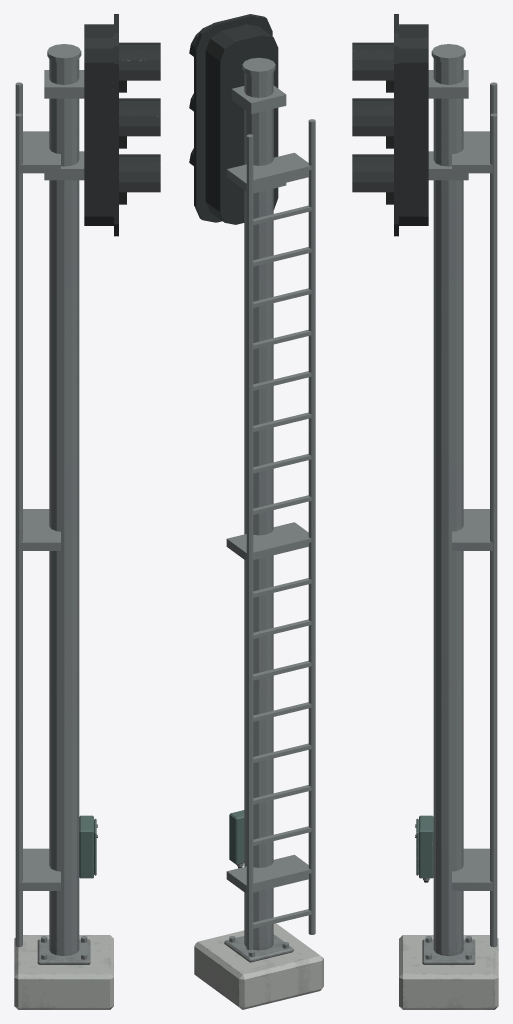
Rendered from rail_signal_one.glb.
The picture shows the model from 3 angles, left to right: view 1: azimuth 90°, elevation 25°; view 2: azimuth 210°, elevation 25°; view 3: azimuth 270°, elevation 25°; orthographic projection. The views are drawn at different scales.
Parts seen in each view (by area): view 1: RailSignalOne; view 2: RailSignalOne; view 3: RailSignalOne.
Part boxes in pixels (x1,y1,x2,y2): RailSignalOne: (14,14,160,1009); RailSignalOne: (189,14,323,1009); RailSignalOne: (352,14,498,1009).
Size of what is drawn, in the model's own units: 0.6 by 6.4 by 0.88.
2 materials, 1 textured.
